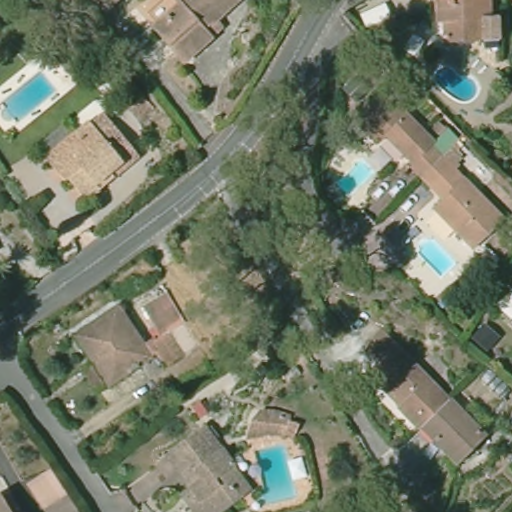pool: (246, 438, 299, 503), (1, 73, 62, 126), (428, 60, 484, 105), (415, 238, 462, 278), (329, 158, 374, 198)
